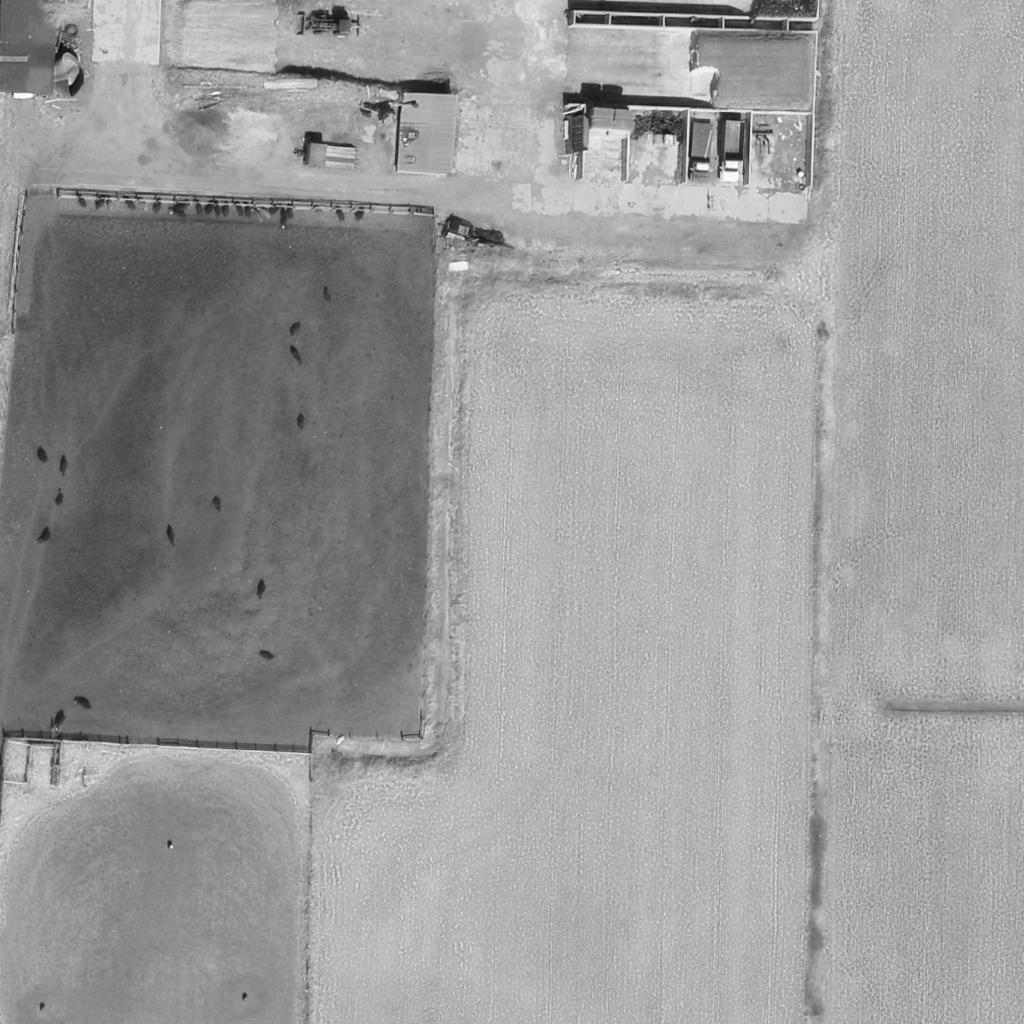vehicle: (716, 120, 748, 184), (688, 123, 714, 185), (309, 10, 353, 40)
